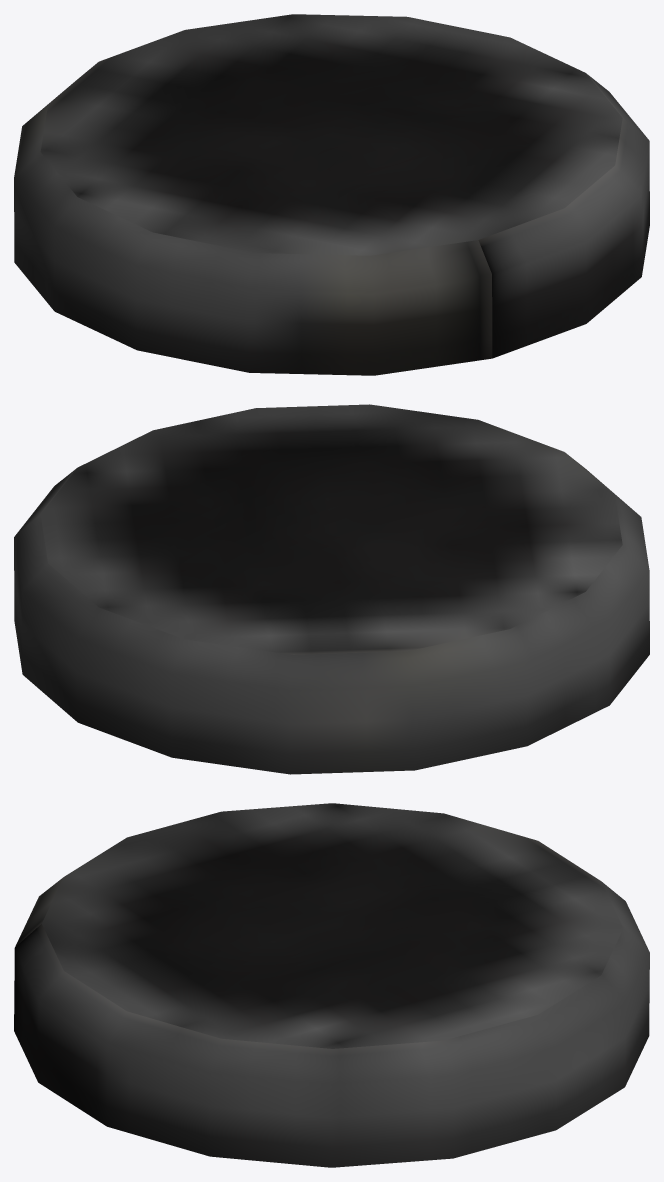
Rendered from basebotao.glb.
The picture shows the model from 3 angles, top to bottom: view 1: azimuth 30°, elevation 25°; view 2: azimuth 150°, elevation 25°; view 3: azimuth 270°, elevation 25°; orthographic projection.
Visible parts, largest first — view 1: botaoEnergia.002; view 2: botaoEnergia.002; view 3: botaoEnergia.002.
Part boxes in pixels (bbox=[...]): botaoEnergia.002: bbox=[14, 14, 649, 375]; botaoEnergia.002: bbox=[14, 404, 649, 774]; botaoEnergia.002: bbox=[14, 803, 649, 1167].
Bounding box in the file's own units: 0.4745 × 0.0927 × 0.475.
1 material, 1 textured.
